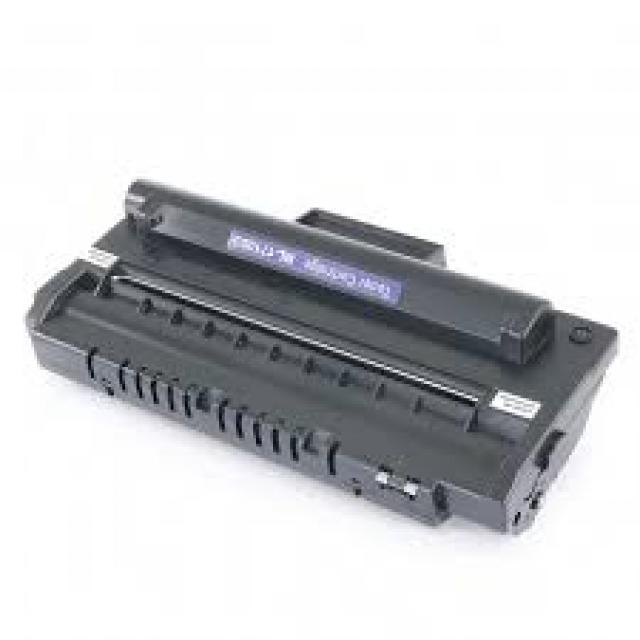printer: (24, 177, 625, 541)
